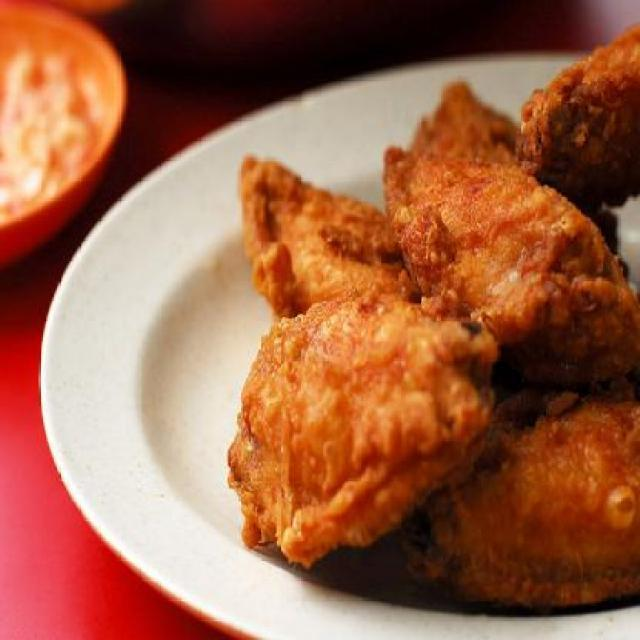Deep fried chicken wing: (228, 56, 614, 584)
